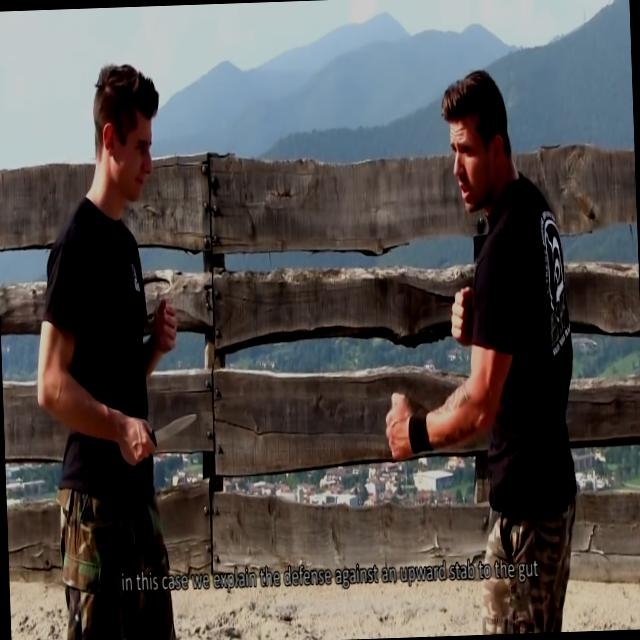knife: (116, 402, 205, 471)
